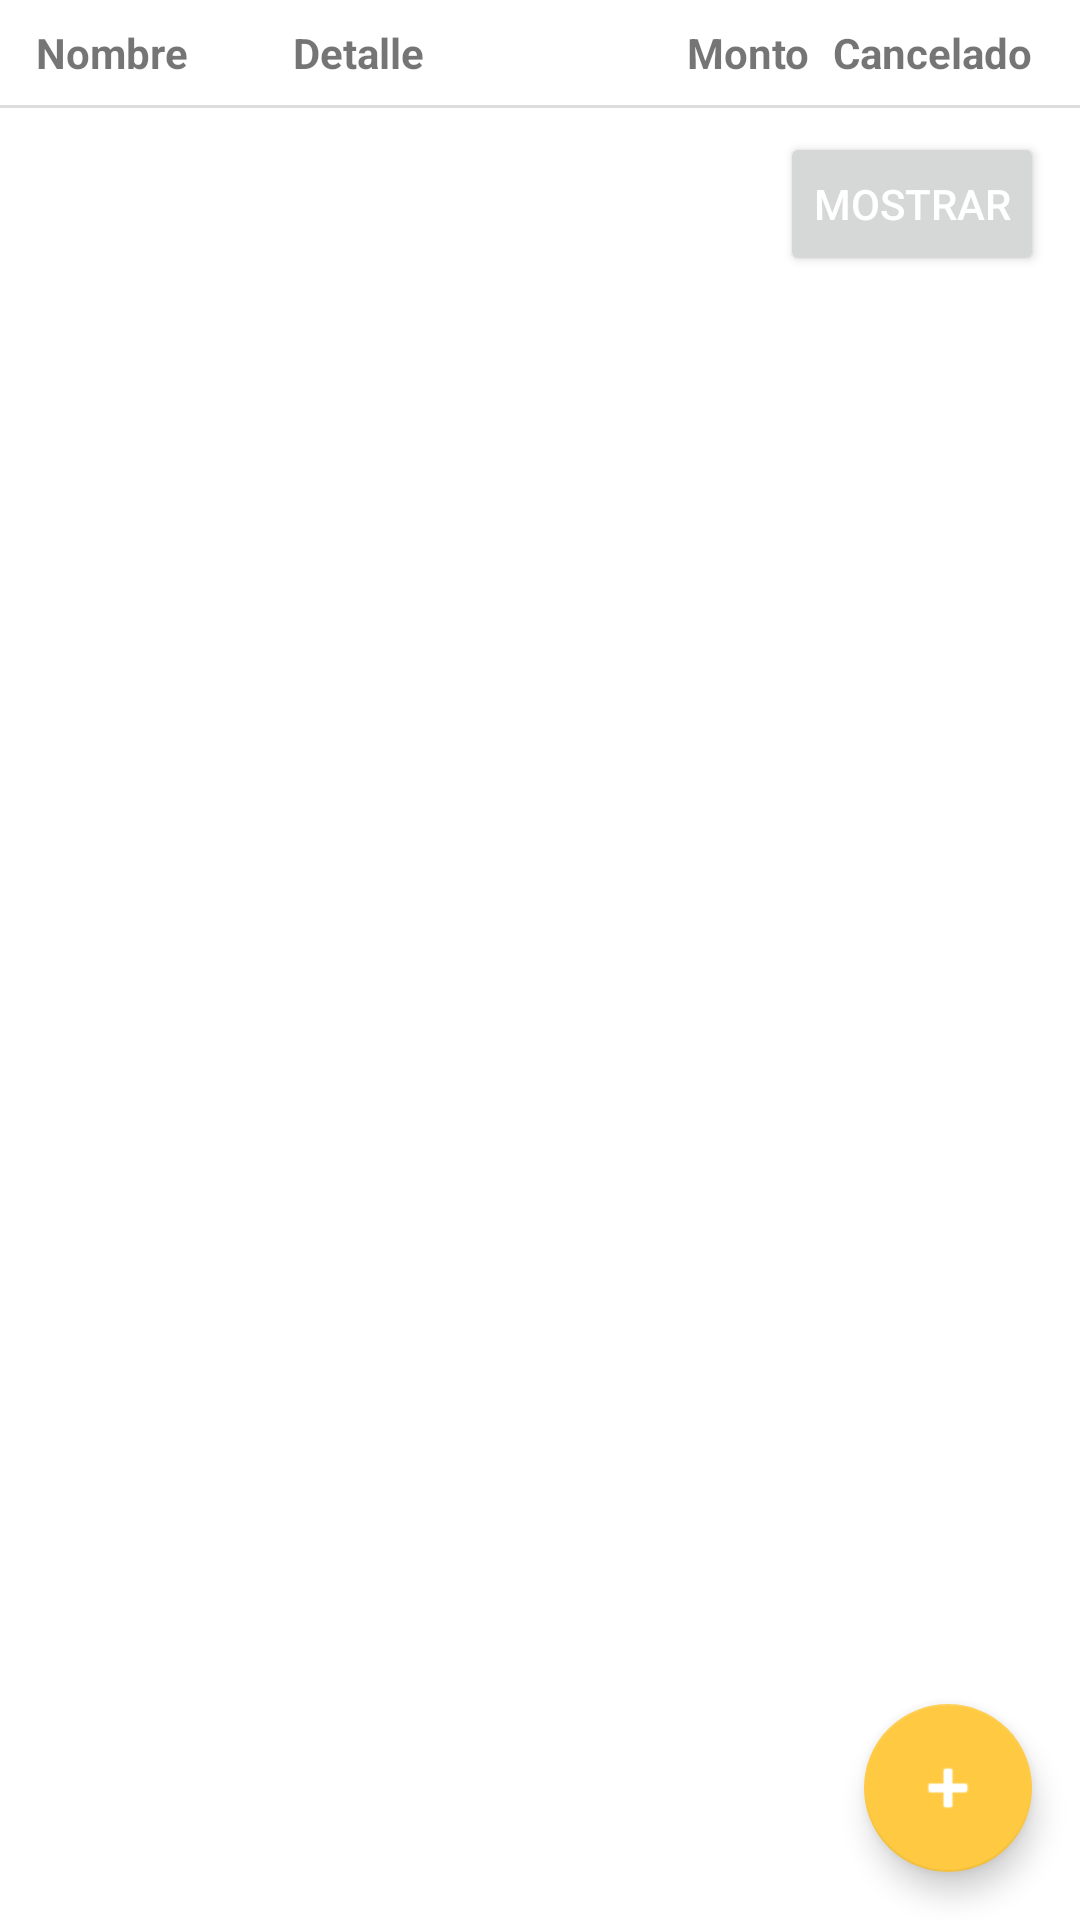

Where icons sit on this 1080px x 1920px app screen, as (x1, y1, x2, y2):
Agregar Ítem: (864, 1704, 1032, 1872)
